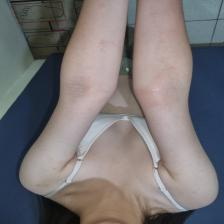DA: (60, 70, 108, 104)
